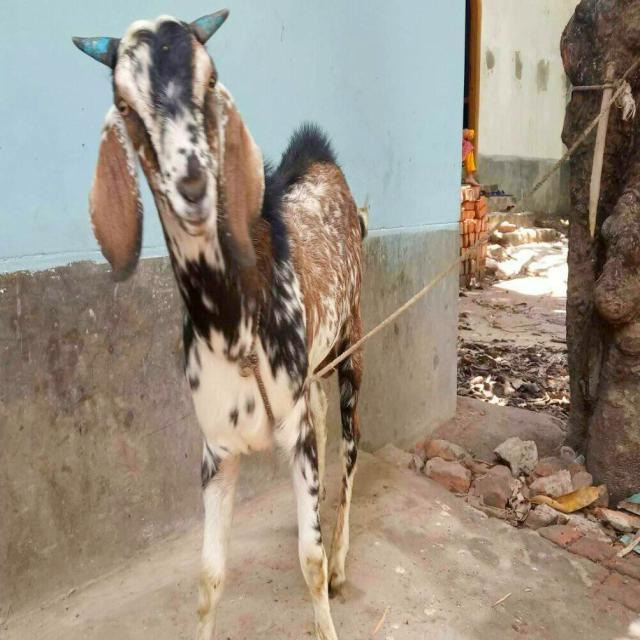Goat: (72, 7, 370, 638)
